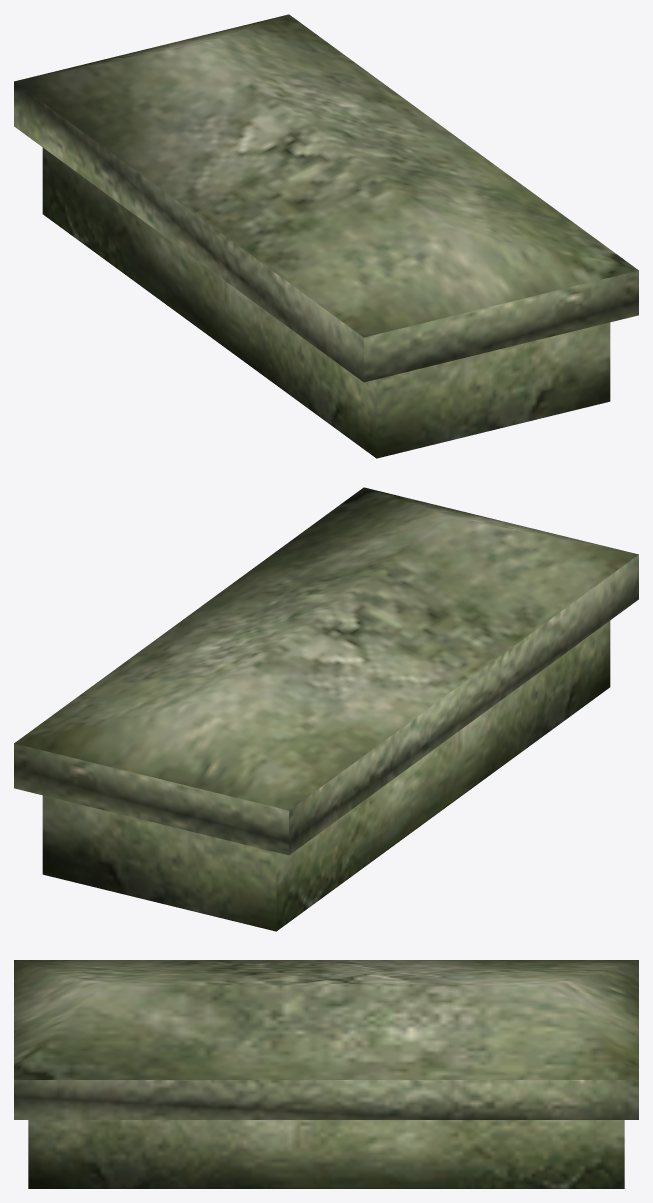
The model's file is stst47.dae.
The picture shows the model from 3 angles, top to bottom: view 1: azimuth 30°, elevation 25°; view 2: azimuth 150°, elevation 25°; view 3: azimuth 270°, elevation 25°; orthographic projection. The views are drawn at different scales.
Parts seen in each view (by area): view 1: grave; view 2: grave; view 3: grave.
Boxes of the visible parts, <box> form: grave: <box>14,14,638,458</box>; grave: <box>14,487,638,931</box>; grave: <box>14,960,638,1188</box>.
Bounding box in the file's own units: 0.4094 × 0.9019 × 0.2414.
1 material, 1 textured.
